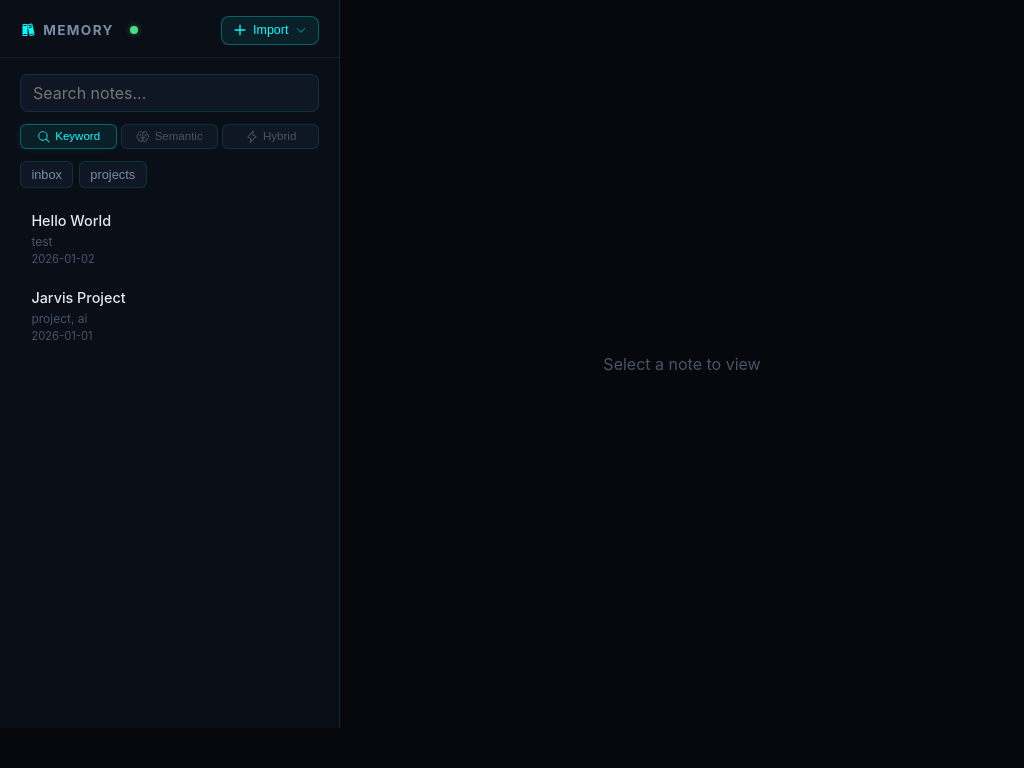
Scenario: pages/memory.vue › clicking note shows content in preview
Click the list item with class "note-list__item" showing "Hello World test 2026-01-02": click(71, 220) [31,212,111,266]
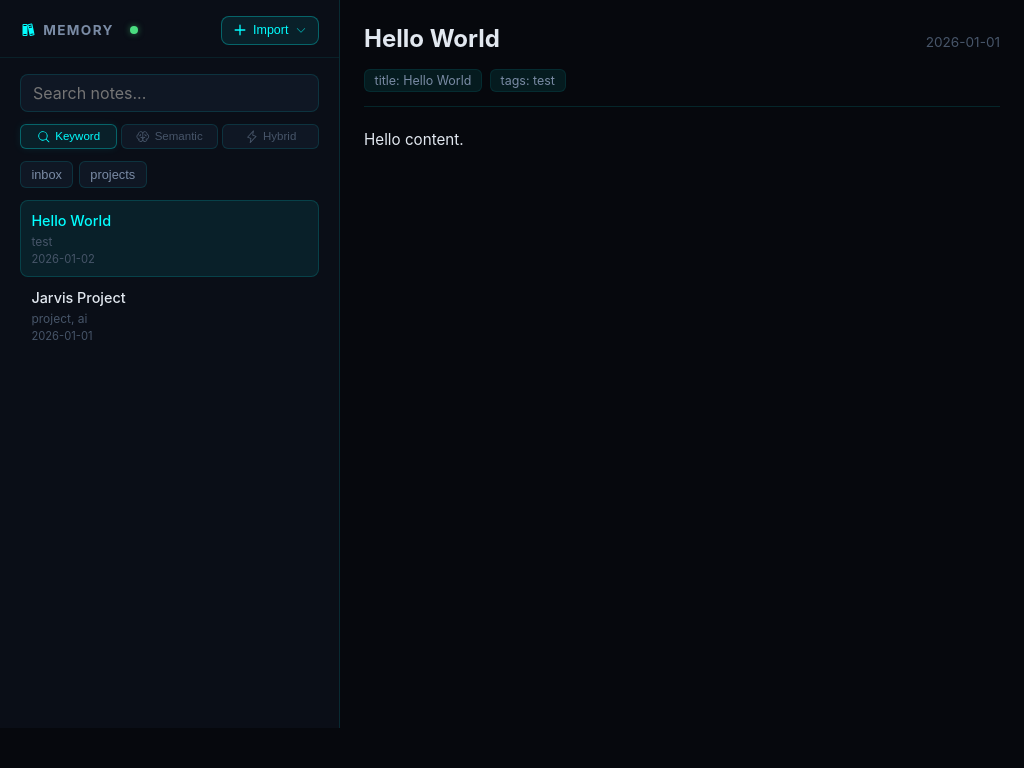
Result: the heading with class "note-viewer__title" reads "Hello World" at [364,24,500,53]
